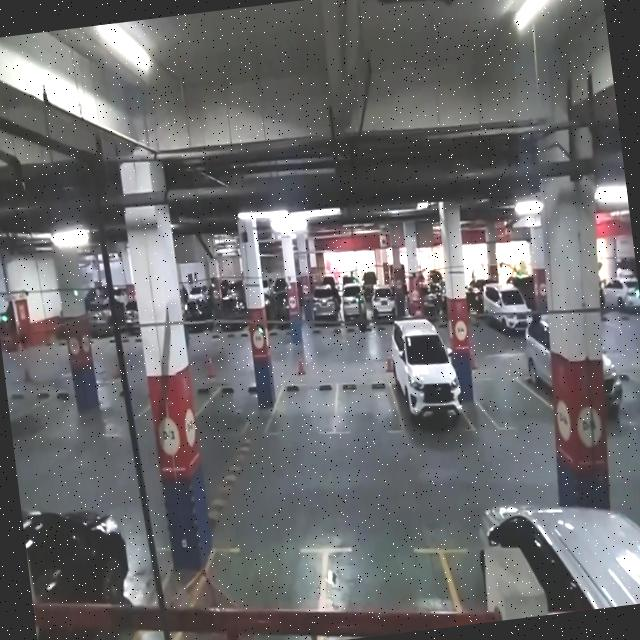empty: (472, 364, 550, 434), (274, 378, 340, 442), (334, 372, 397, 438), (204, 382, 262, 439)
occupied: (388, 348, 469, 436)
